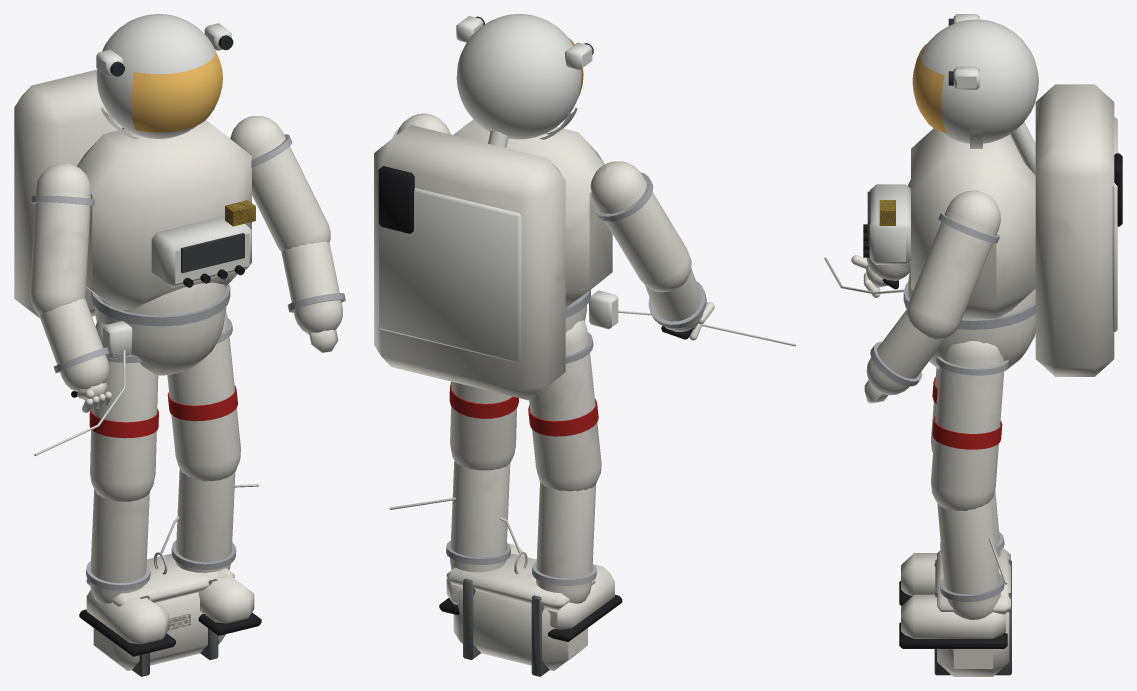
Rendered from extras.glb.
The picture shows the model from 3 angles, left to right: view 1: azimuth 30°, elevation 25°; view 2: azimuth 150°, elevation 25°; view 3: azimuth 270°, elevation 25°; orthographic projection.
Visible parts, largest first — view 1: astronaut.body, astronaut.arm.R, toolbag.bag, astronaut.forearm.R, astronaut.hand.R; view 2: astronaut.body, toolbag.bag, astronaut.arm.R, astronaut.forearm.R; view 3: astronaut.body, toolbag.bag, astronaut.hand.R, astronaut.forearm.R.
Part boxes in pixels (x1,y1,x2,y2): astronaut.body: (14,14,345,656); astronaut.arm.R: (30,163,94,315); toolbag.bag: (86,484,258,676); astronaut.forearm.R: (39,298,109,391); astronaut.hand.R: (71,382,111,412); astronaut.body: (374,14,795,641); toolbag.bag: (389,497,595,676); astronaut.arm.R: (590,161,691,292); astronaut.forearm.R: (645,268,706,331); astronaut.body: (824,14,1122,648); toolbag.bag: (934,537,1011,676); astronaut.hand.R: (851,255,898,297); astronaut.forearm.R: (866,257,910,280).
Size of the model in its own units: 1.22 by 2.13 by 0.9085.
Materials: 2 (2 with a texture image).
